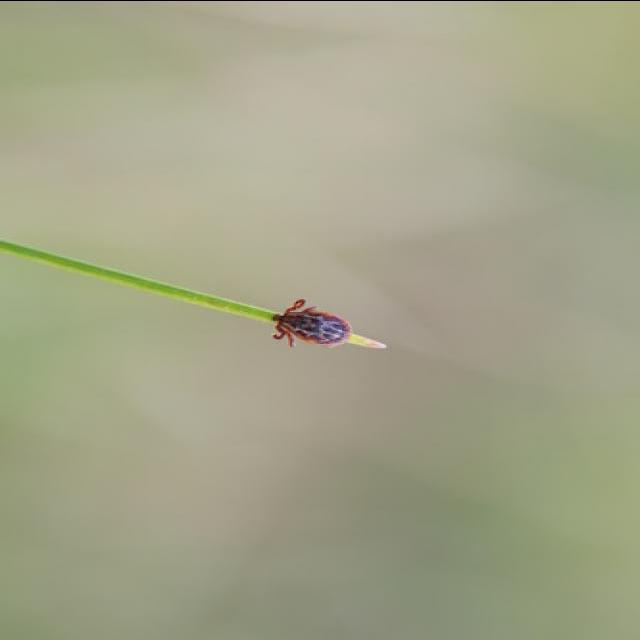Dermacentor Reticulatus-F: (271, 298, 352, 347)
